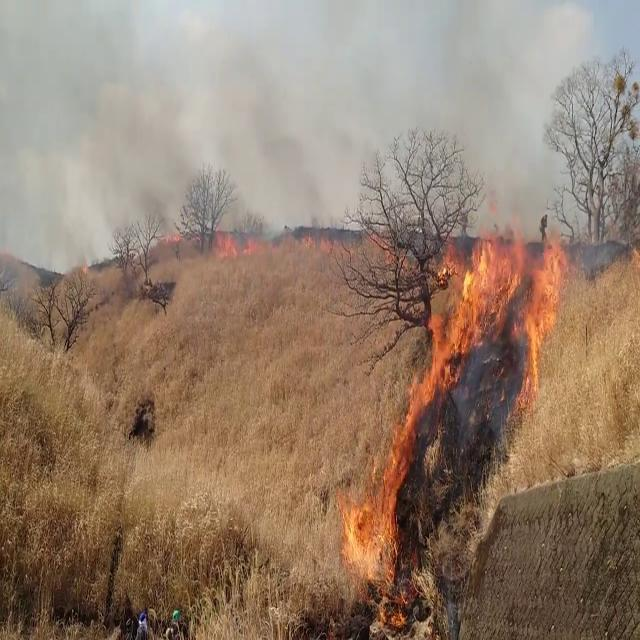Fire: (412, 218, 568, 414), (341, 362, 434, 636), (209, 221, 263, 260)
Smoke: (0, 1, 378, 272)
